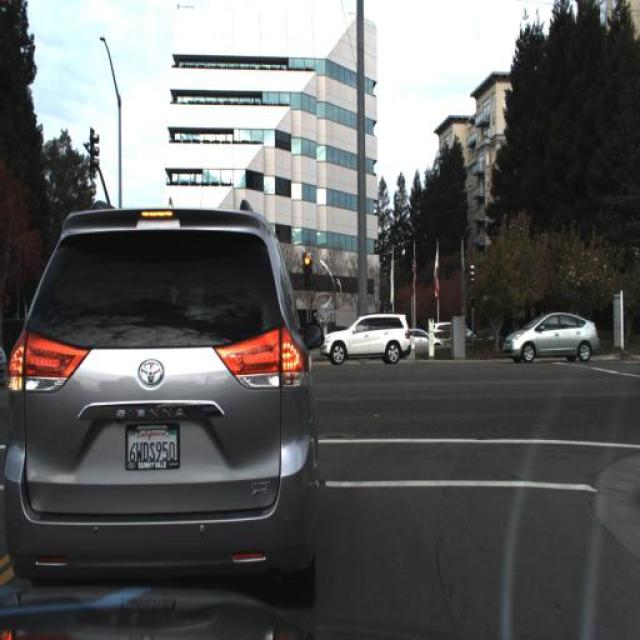car: (3, 194, 329, 598), (494, 298, 601, 368), (500, 310, 600, 366), (322, 308, 411, 364), (406, 327, 445, 359)
trafficLight-RedLeft: (300, 245, 314, 290)
